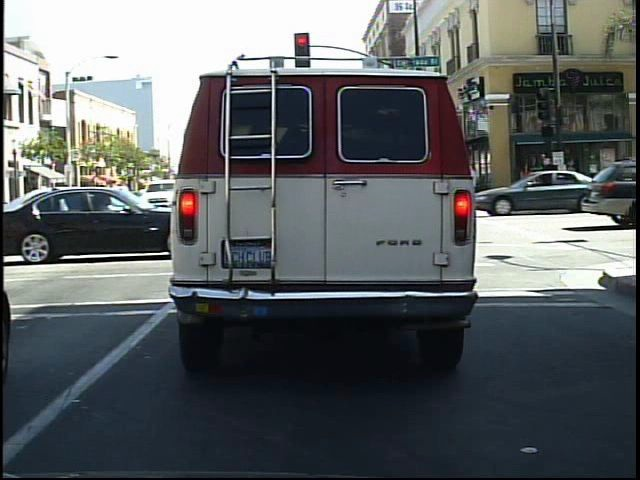person: (536, 154, 561, 208), (536, 147, 557, 209), (516, 157, 539, 205), (549, 158, 570, 208)
